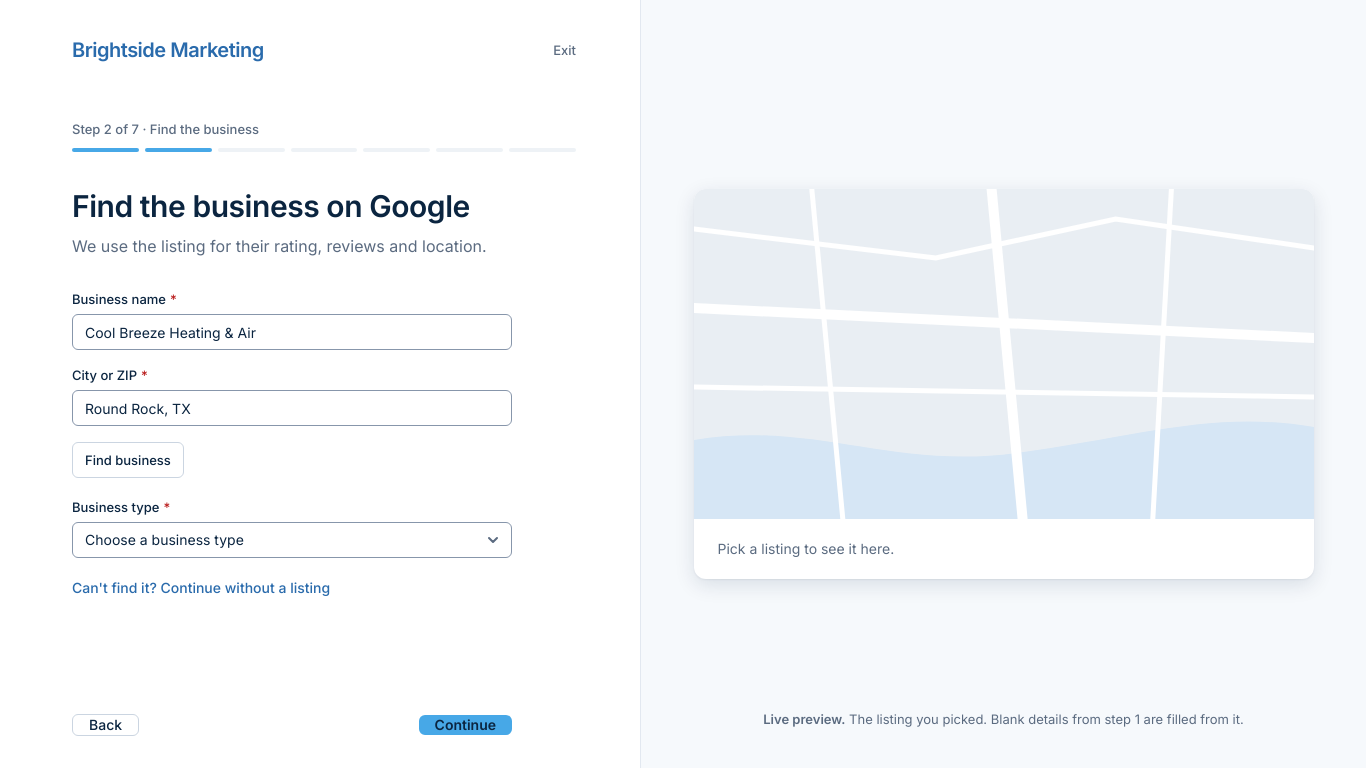
Test: FindStep (client step 2) › a failed search shows the alert
Click the button "Find business" at coordinates (128, 460), box left=72, top=442, right=184, bottom=478
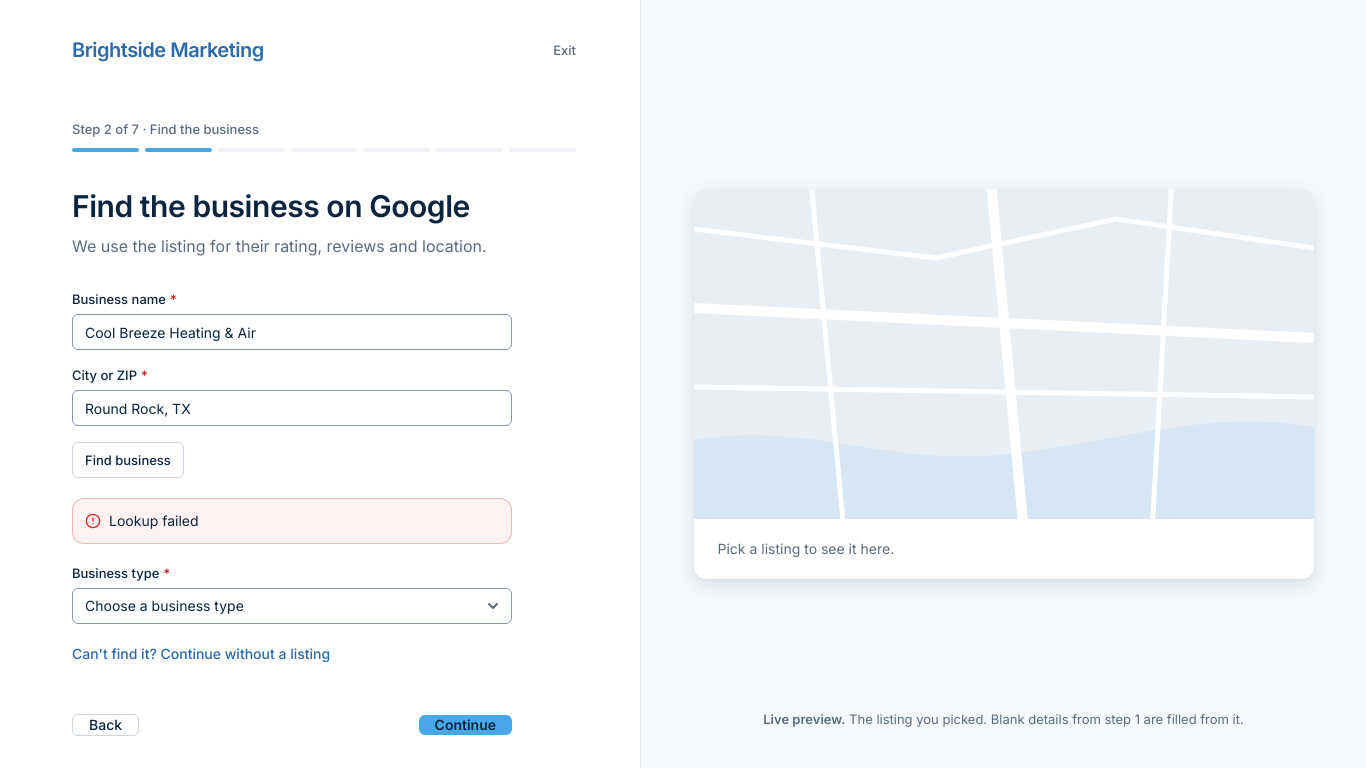
expect the message reads "Lookup failed": met, box left=109, top=512, right=198, bottom=529
